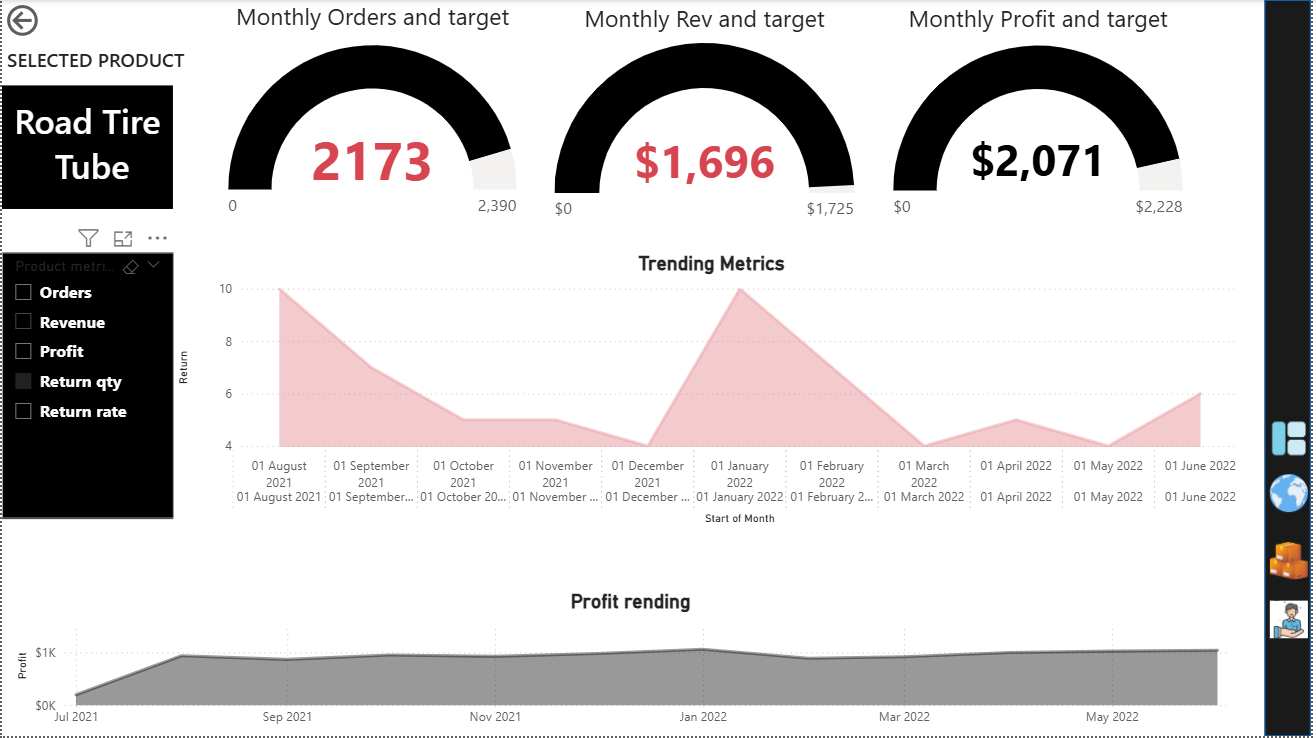

What the dashboard file says about the page in this screenshot:
{"tool":"powerbi","page":{"name":"product","canvas":[1280,720],"ordinal":2},"visuals":[{"type":"gauge","title":"Monthly Orders and target","fields":{"Y":["Tables Measures.total orders"],"MaxValue":["Tables Measures.order target"]},"box":[216.4,0,292.3,231.1],"z":0},{"type":"actionButton","box":[1236.3,399.9,45.2,57.5],"z":0,"group":"g1"},{"type":"gauge","title":"Monthly Rev and target","fields":{"Y":["Tables Measures.total rev"],"MaxValue":["Tables Measures.target rev"]},"box":[535.6,1.2,303.3,229.9],"z":1000},{"type":"actionButton","box":[1236.3,457.4,45.2,50.1],"z":1000,"group":"g1"},{"type":"gauge","title":"Monthly Profit and target","fields":{"Y":["Tables Measures.total profit"],"MaxValue":["Tables Measures.profit target"]},"box":[867,1.2,293.5,229.9],"z":2000},{"type":"actionButton","box":[1236.3,519.7,45.2,57.5],"z":2000,"group":"g1"},{"type":"areaChart","title":" Profit rending","fields":{"Y":["Tables Measures.total profit"],"Category":["Rolling Calender.Date Hierarchy.Start of Year","Rolling Calender.Date Hierarchy.Start of Month","Rolling Calender.Date Hierarchy.Start of Week","Rolling Calender.Date Hierarchy.Date"]},"box":[10.1,577.1,1210.5,142.8],"z":3000},{"type":"actionButton","box":[1236.3,577.2,45.2,57.5],"z":3000,"group":"g1"},{"type":"areaChart","title":" Trending Metrics","fields":{"Y":["Tables Measures.total return qty"],"Category":["Rolling Calender.Date Hierarchy.Start of Year","Rolling Calender.Date Hierarchy.Start of Month","Rolling Calender.Date Hierarchy.Start of Week","Rolling Calender.Date Hierarchy.Date","Rolling Calender.Date Hierarchy.Start of Year","Rolling Calender.Date Hierarchy.Start of Month","Rolling Calender.Date Hierarchy.Start of Week"]},"box":[167.4,246.7,1053.2,271.2],"z":4000},{"type":"actionButton","box":[0,0,100,40],"z":5000},{"type":"card","fields":{"Values":["Min(Product Lookup.ProductName)"]},"box":[0,66.4,167.4,138.5],"z":6000},{"type":"textbox","box":[0,40.4,216.4,43.3],"z":7000},{"type":"shape","box":[1235.1,0,45.2,720.2],"z":8000},{"type":"group","id":"g1","title":"Group 1","box":[1236.3,399.9,45.2,234.8],"z":9000},{"type":"slicer","fields":{"Values":["Product metric selection.Product metric selection"]},"box":[0,246.7,167.4,261.1],"z":10000}]}

Visuals, with their boxes on the page's 1280x720 design canvas (x1, y1, x2, y2). These are canvas units, not pixel positions in the 1316x738 screenshot, which may show the page scaled, cropped or inside an application window:
"Monthly Orders and target" gauge: [left=216, top=0, right=509, bottom=231]
actionButton: [left=1236, top=400, right=1282, bottom=457]
"Monthly Rev and target" gauge: [left=536, top=1, right=839, bottom=231]
actionButton: [left=1236, top=457, right=1282, bottom=508]
"Monthly Profit and target" gauge: [left=867, top=1, right=1160, bottom=231]
actionButton: [left=1236, top=520, right=1282, bottom=577]
" Profit rending" areaChart: [left=10, top=577, right=1221, bottom=720]
actionButton: [left=1236, top=577, right=1282, bottom=635]
" Trending Metrics" areaChart: [left=167, top=247, right=1221, bottom=518]
actionButton: [left=0, top=0, right=100, bottom=40]
card - Min(Product Lookup.ProductName): [left=0, top=66, right=167, bottom=205]
textbox: [left=0, top=40, right=216, bottom=84]
shape: [left=1235, top=0, right=1280, bottom=720]
"Group 1" group: [left=1236, top=400, right=1282, bottom=635]
slicer - Product metric selection.Product metric selection: [left=0, top=247, right=167, bottom=508]
